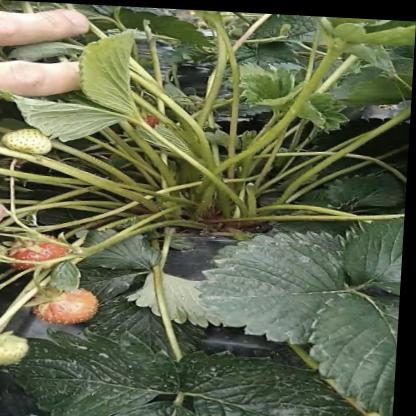ripe: (4, 224, 78, 273), (126, 107, 164, 130)
unripe: (28, 282, 113, 329), (5, 126, 63, 157), (0, 331, 43, 372), (0, 239, 15, 277)
